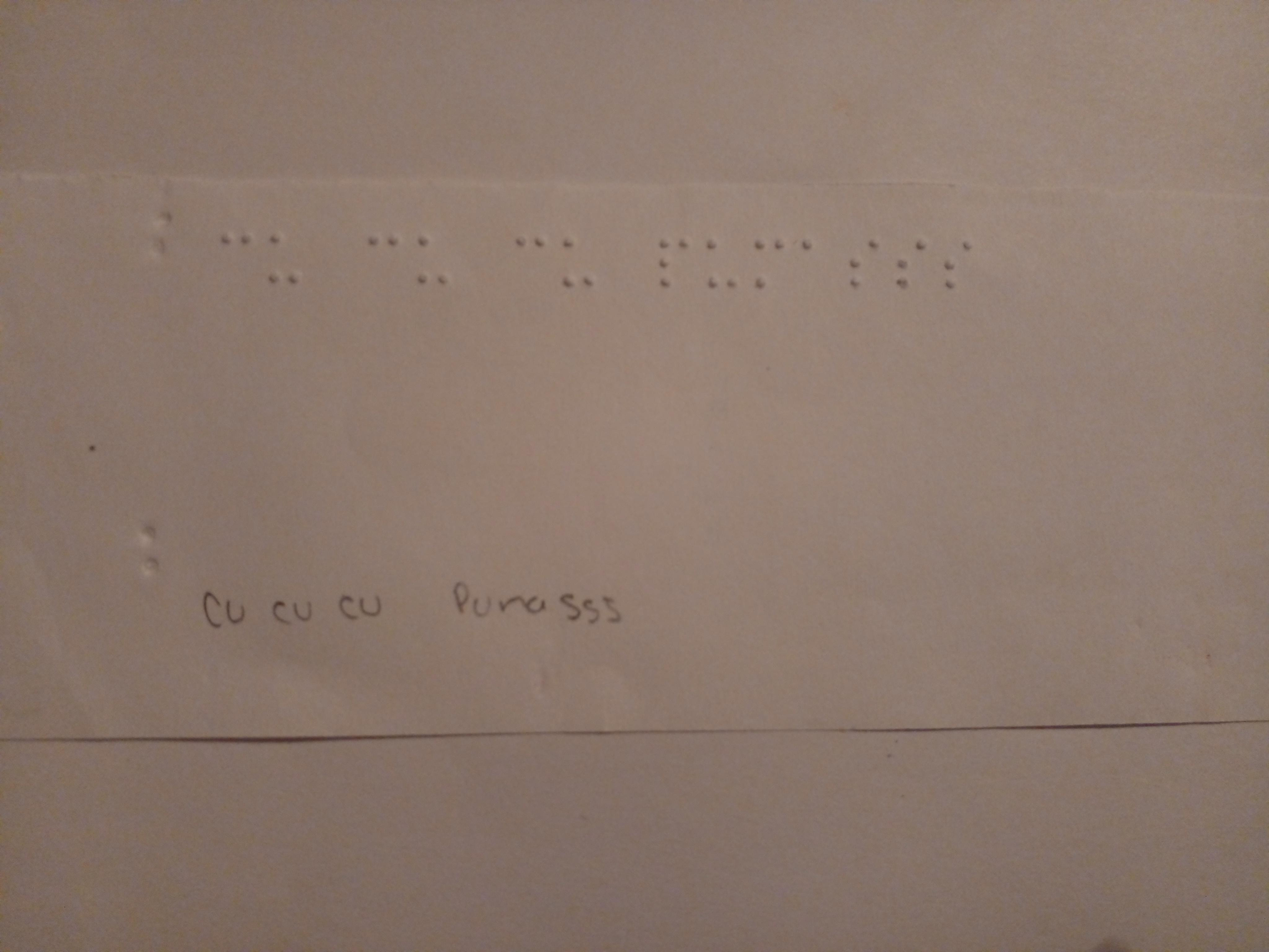a: (795, 229, 818, 276)
c: (211, 211, 257, 279), (356, 222, 411, 274), (503, 225, 548, 274)
m: (747, 232, 790, 294)
p: (641, 229, 692, 293)
s: (934, 232, 979, 296), (840, 228, 883, 293), (894, 229, 928, 294)
u: (545, 228, 604, 298), (262, 218, 308, 307), (411, 222, 462, 296), (694, 234, 748, 301)
